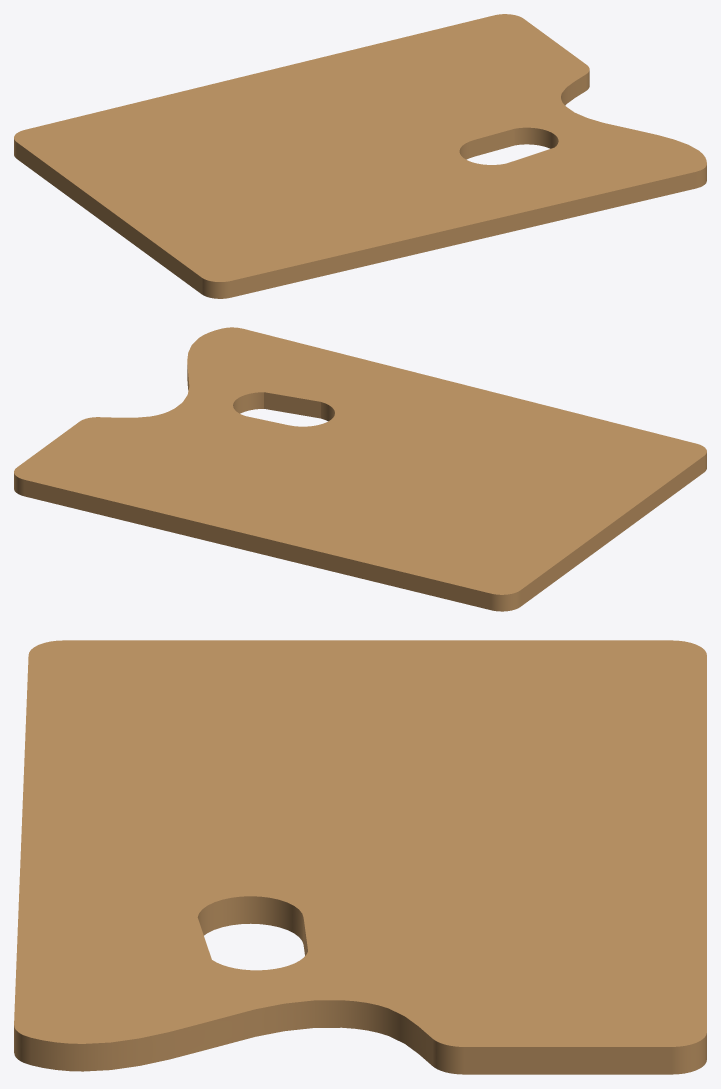
Rendered from 363_木製パレット角型.glb.
3 views of the same model, one above another, from view 1: azimuth 30°, elevation 25°; view 2: azimuth 150°, elevation 25°; view 3: azimuth 270°, elevation 25° (orthographic). The views are drawn at different scales.
Parts seen in each view (by area): view 1: Body1; view 2: Body1; view 3: Body1.
Part boxes in pixels (bbox=[...]): Body1: bbox=[14, 14, 706, 298]; Body1: bbox=[14, 327, 706, 611]; Body1: bbox=[14, 640, 706, 1074].
Bounding box in the file's own units: 0.4112 × 0.013 × 0.2962.
